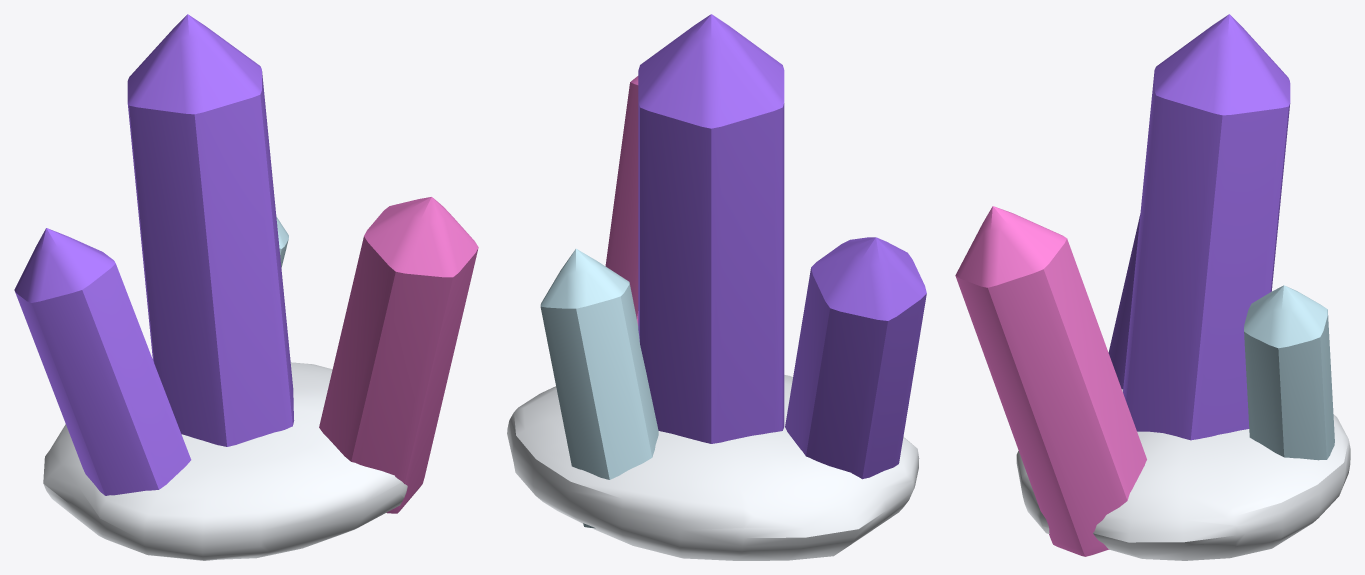
File: CrystalClusterB.glb
3 renders of one model, left to right at view 1: azimuth 30°, elevation 25°; view 2: azimuth 150°, elevation 25°; view 3: azimuth 270°, elevation 25°, orthographic. The views are drawn at different scales.
Visible parts, largest first — view 1: CrystalClusterB; view 2: CrystalClusterB; view 3: CrystalClusterB.
Part boxes in pixels (x1,y1,x2,y2): CrystalClusterB: [14, 14, 478, 560]; CrystalClusterB: [507, 14, 926, 560]; CrystalClusterB: [955, 14, 1350, 560].
Size of the model in its own units: 7 by 8.83 by 6.38.
1 material, 1 textured.
